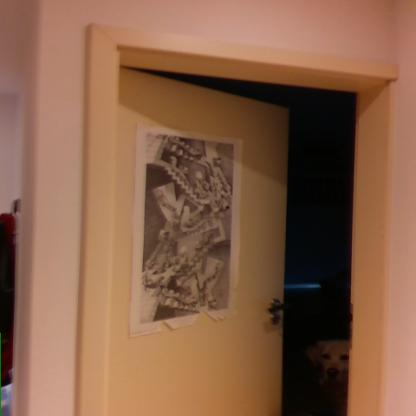semi: (79, 16, 416, 416)
